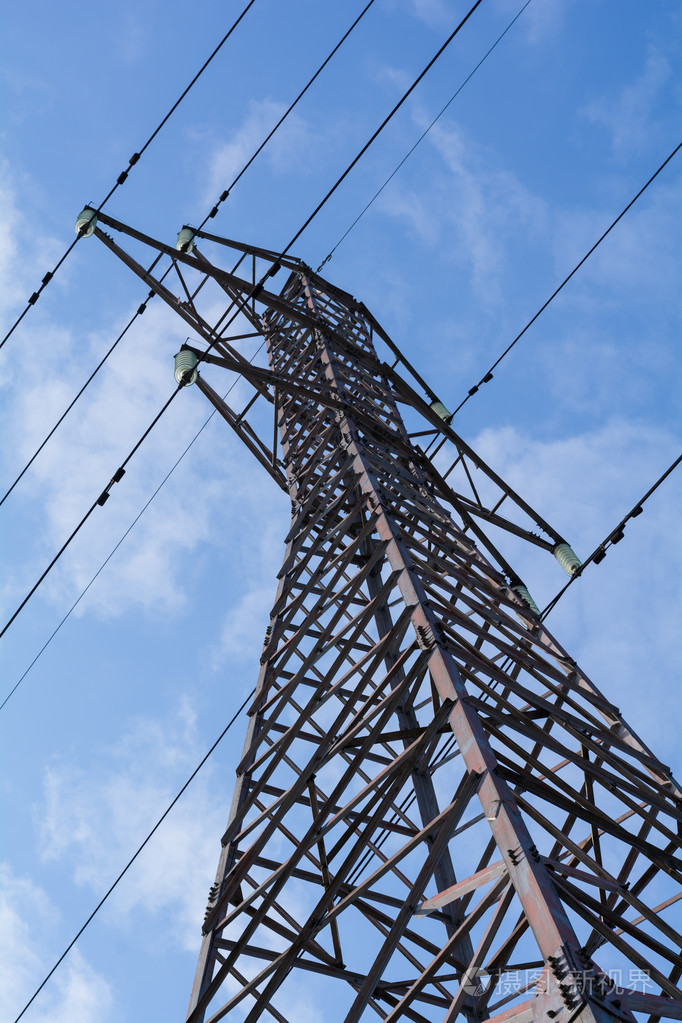insulator: (172, 346, 199, 389), (554, 542, 581, 575), (75, 208, 99, 235), (174, 225, 197, 250)
